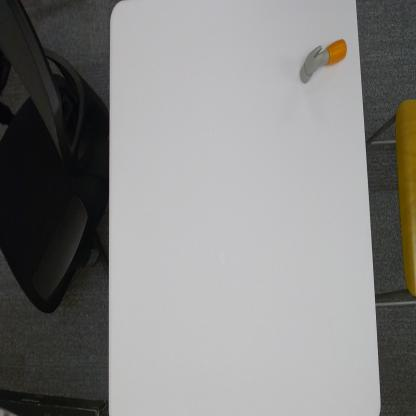Hammer: (300, 38, 348, 84)
